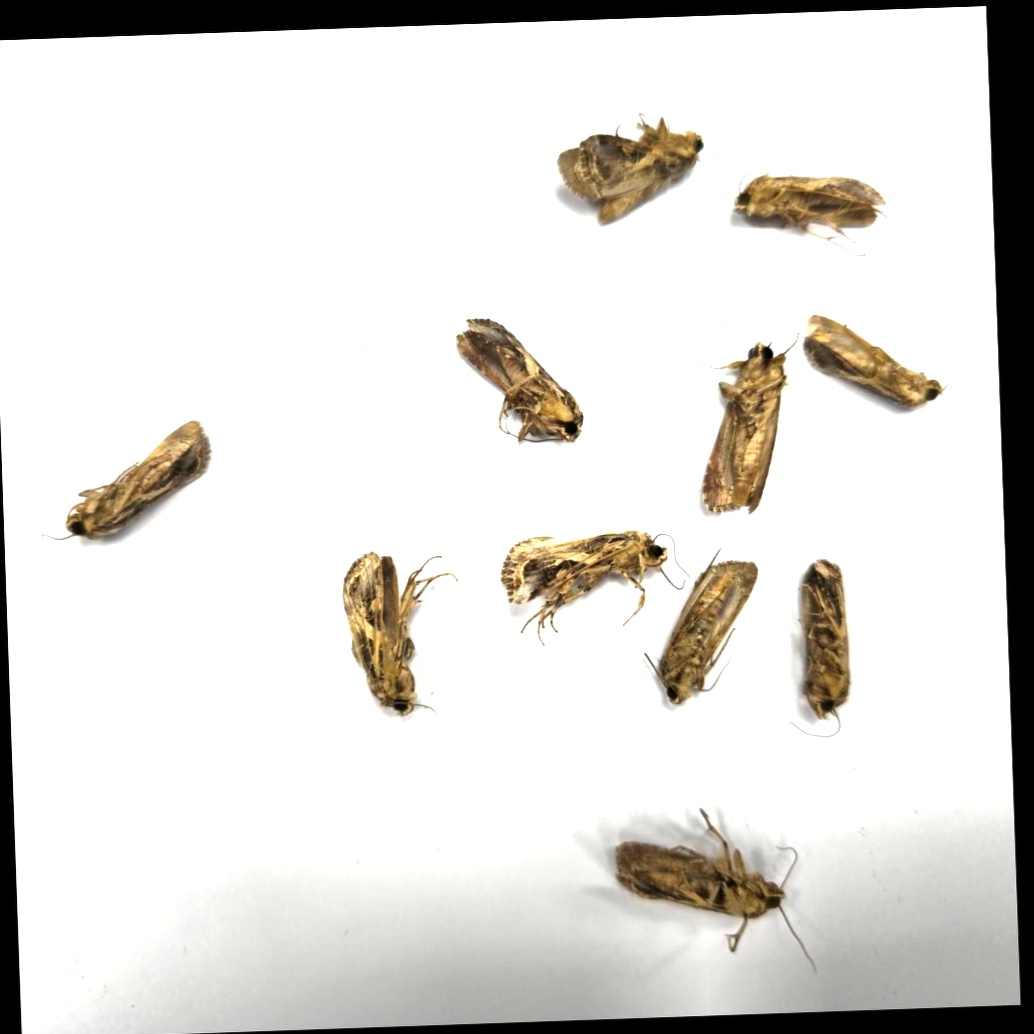Spodoptera litura: (615, 805, 817, 979), (555, 86, 730, 227), (38, 421, 214, 558), (686, 325, 804, 516), (500, 528, 691, 644), (343, 548, 460, 716), (643, 545, 760, 703), (801, 310, 977, 409), (456, 314, 581, 446), (731, 165, 887, 259), (786, 557, 851, 739)
